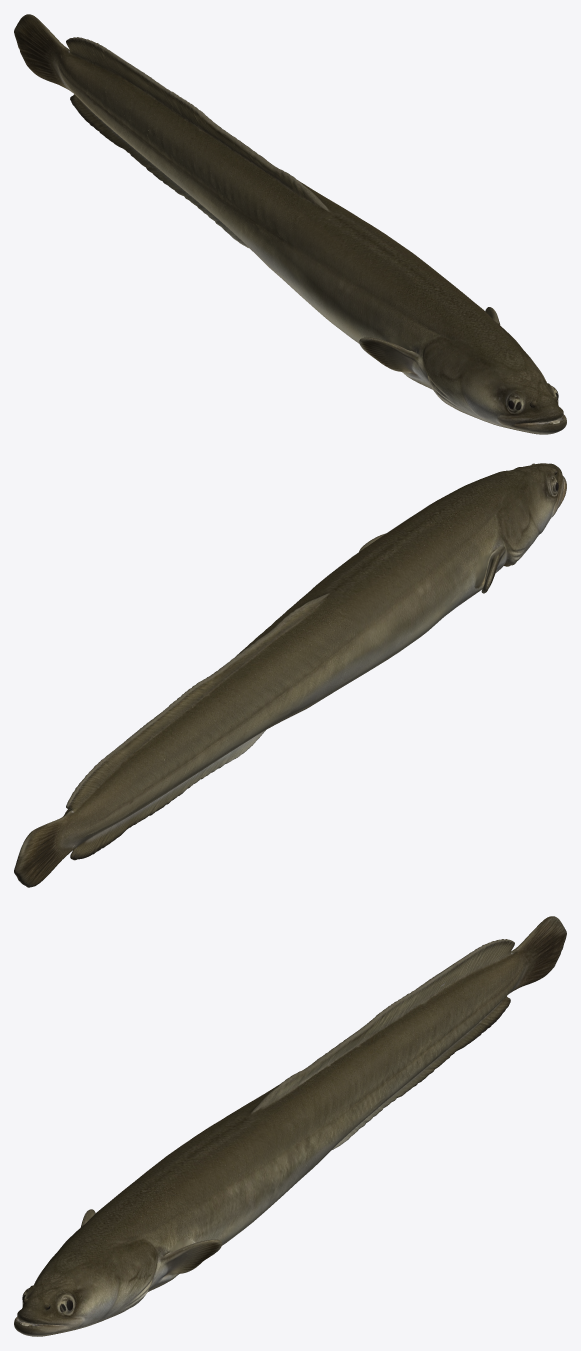
Rendered from wegorz.glb.
3 views of the same model, one above another, from view 1: azimuth 30°, elevation 25°; view 2: azimuth 150°, elevation 25°; view 3: azimuth 330°, elevation 25° (orthographic).
Parts seen in each view (by area): view 1: Mesh_0; view 2: Mesh_0; view 3: Mesh_0.
Boxes of the visible parts, bbox=[...] form: Mesh_0: bbox=[14, 14, 566, 434]; Mesh_0: bbox=[14, 463, 566, 887]; Mesh_0: bbox=[14, 916, 566, 1336].
Size of the model in its own units: 0.2633 by 0.2004 by 1.9.
Materials: 1 (1 with a texture image).
